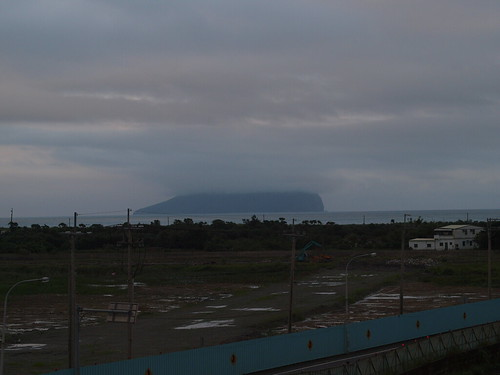turtleIsland: (131, 191, 325, 216)
